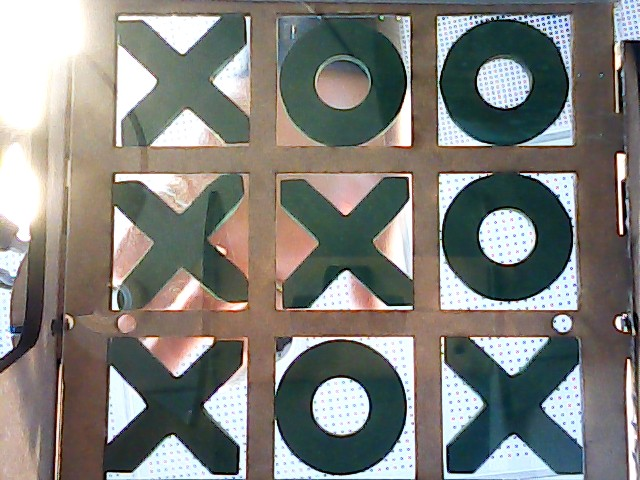O: (279, 18, 418, 145), (442, 175, 576, 306), (277, 339, 405, 470), (441, 15, 572, 141)
X: (443, 337, 581, 479), (110, 339, 251, 477), (278, 173, 414, 311), (115, 18, 252, 151), (112, 177, 250, 308)
